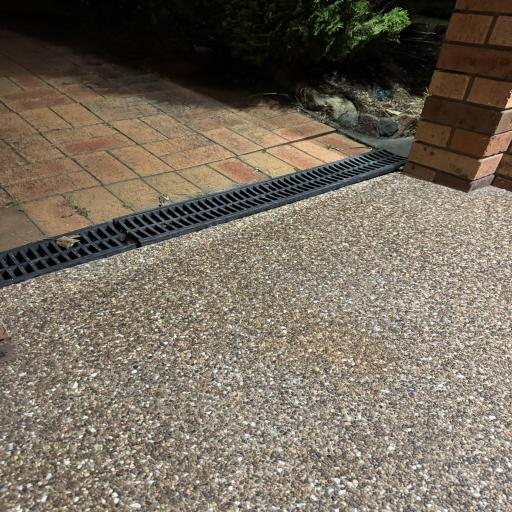gutter: (0, 150, 405, 288)
